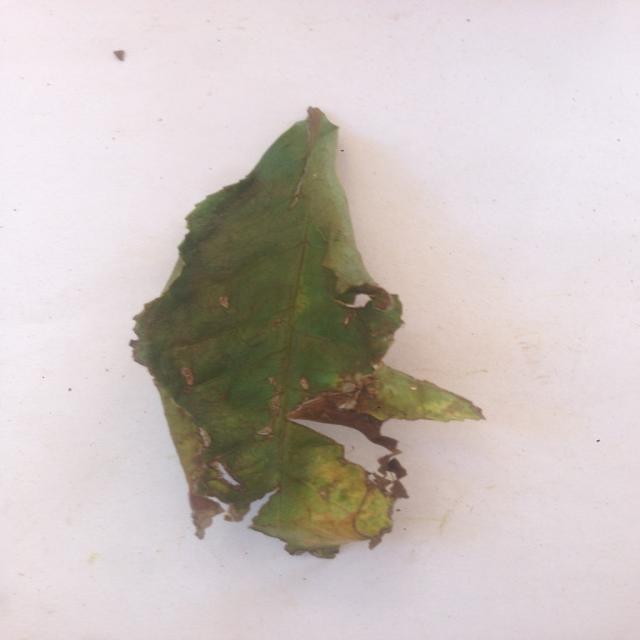Brown Blight: (134, 92, 465, 570)
